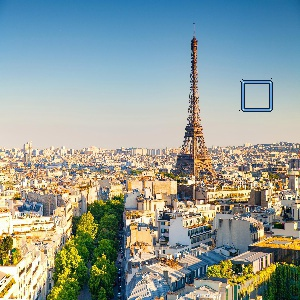square: (239, 78, 274, 114)
